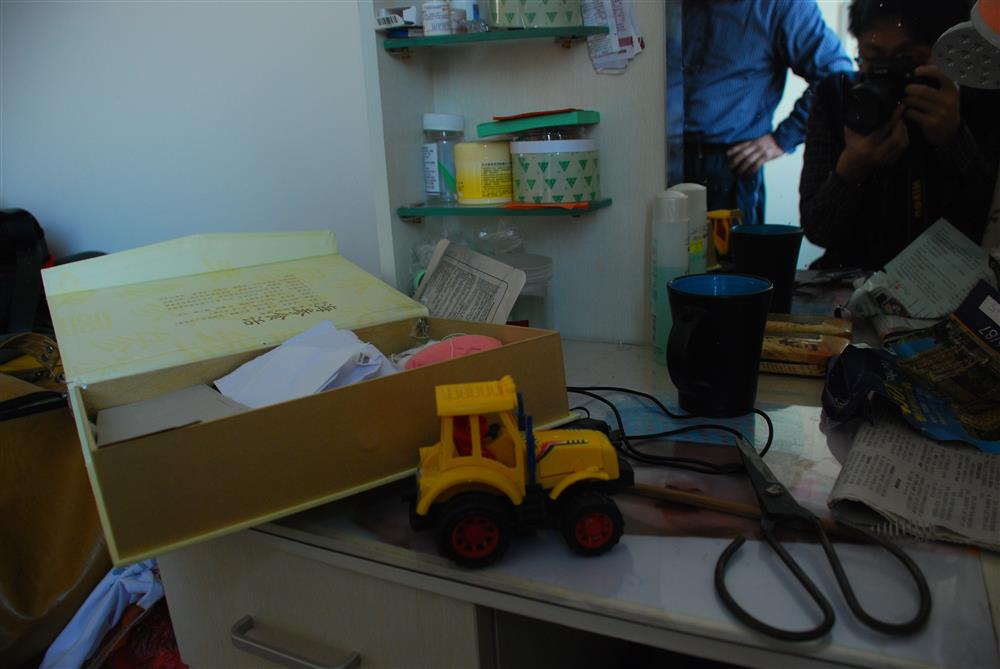toy_jeep: (410, 375, 637, 569)
